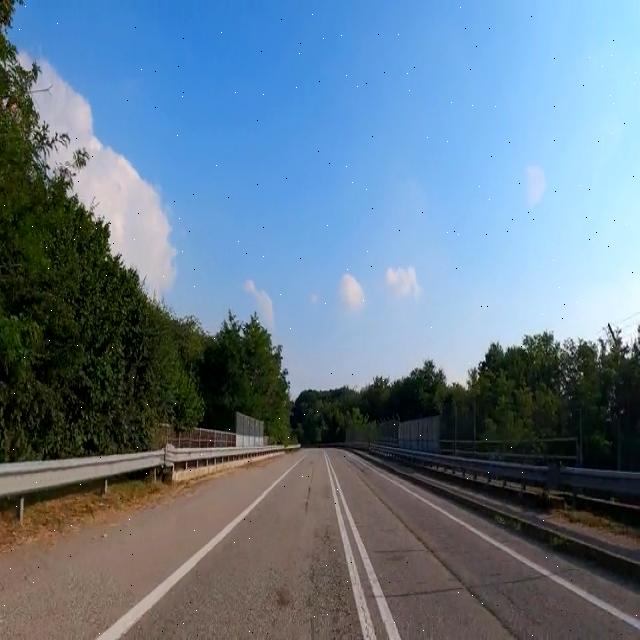lane: (363, 462, 640, 631), (97, 455, 305, 639), (331, 463, 401, 639)
road: (1, 448, 640, 638)
